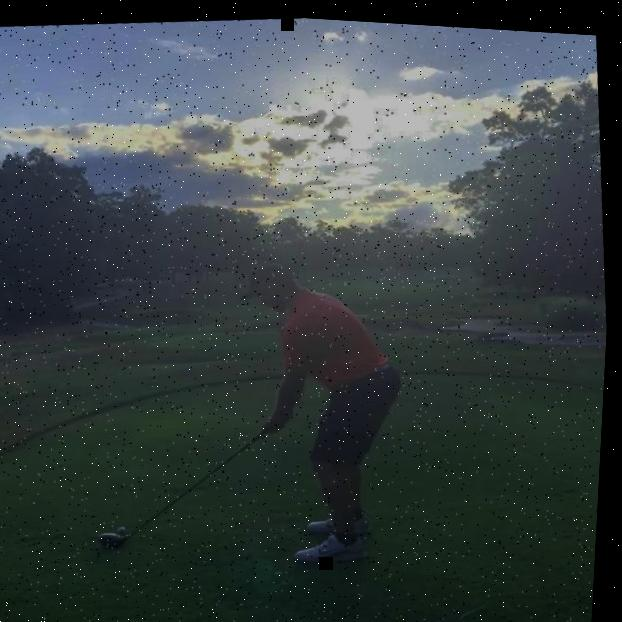ClubHead: (104, 530, 132, 546)
GolfBall: (122, 523, 132, 533)
